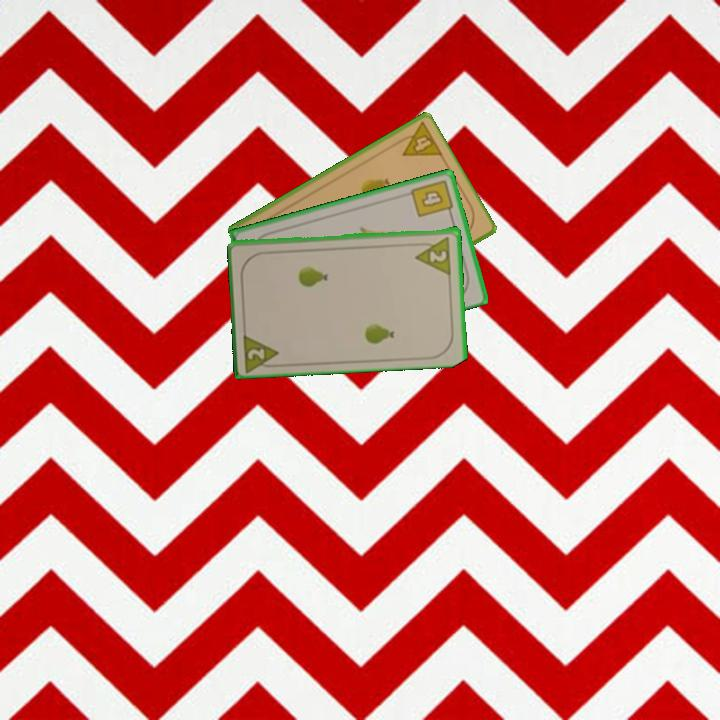2p: (240, 328, 283, 373), (412, 233, 454, 276)
4b: (407, 176, 456, 220)
4p: (391, 118, 445, 159)
